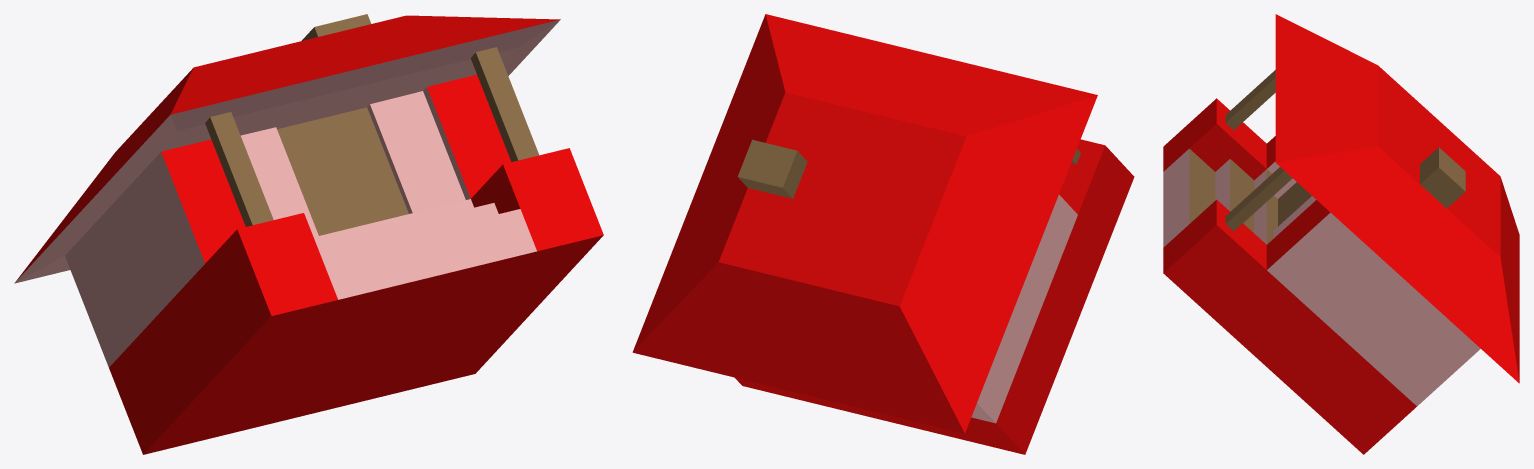
Rendered from village_town 1.fbx.
3 views of the same model, side by side, from view 1: azimuth 30°, elevation 25°; view 2: azimuth 150°, elevation 25°; view 3: azimuth 270°, elevation 25° (orthographic). The views are drawn at different scales.
Parts seen in each view (by area): view 1: town; view 2: town; view 3: town.
Boxes of the visible parts, left/top/right/bottom form: town: left=14, top=14, right=603, bottom=454; town: left=632, top=14, right=1134, bottom=454; town: left=1163, top=14, right=1519, bottom=454.
Size of the model in its own units: 1.24 by 1.18 by 1.26.
